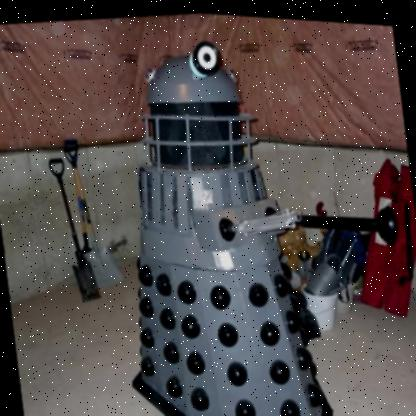dalek: (50, 5, 416, 416)
